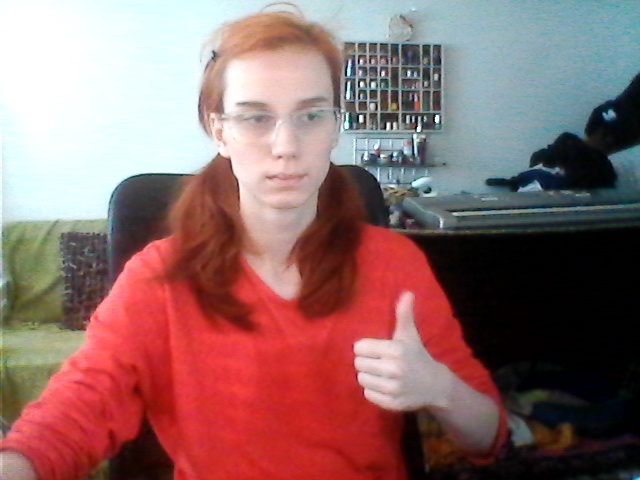jeden: (345, 288, 439, 418)
